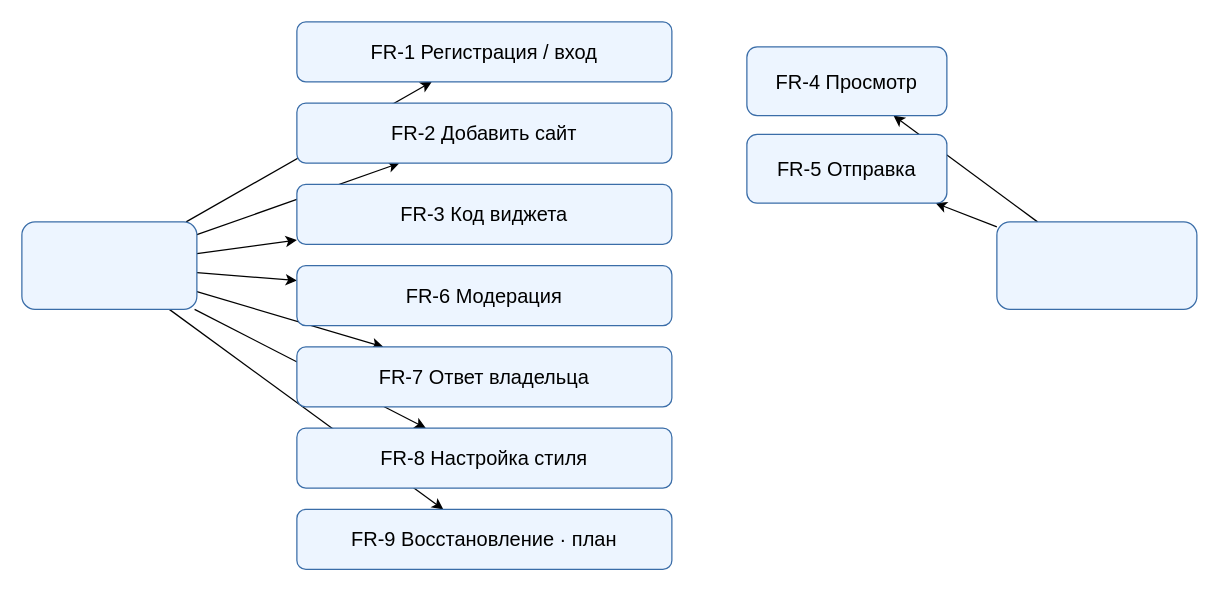
Image size: 1219x591. Some labels were removed from this diagram. The centre of each missing label's shape, as x and y in pixels:
"Владелец" belongs at pixel 109 265.
"Посетитель" belongs at pixel 1096 265.
